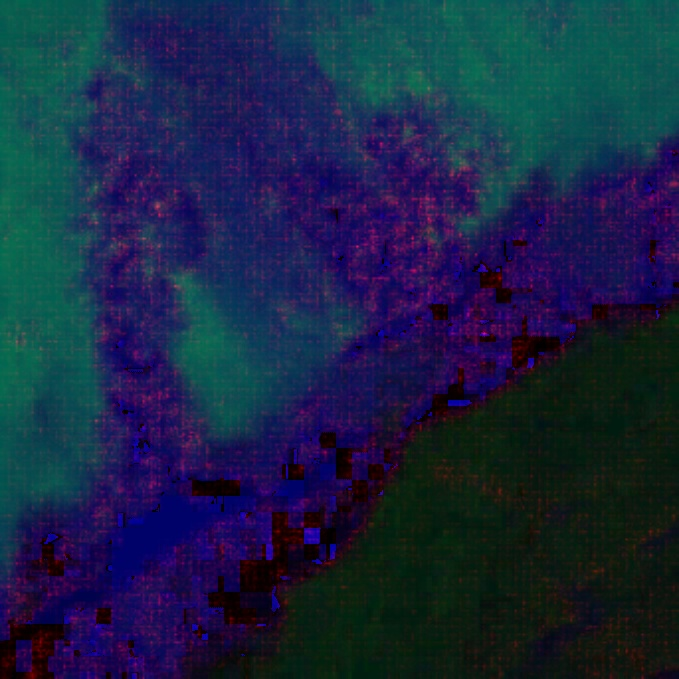rip_current: (78, 48, 427, 430)
